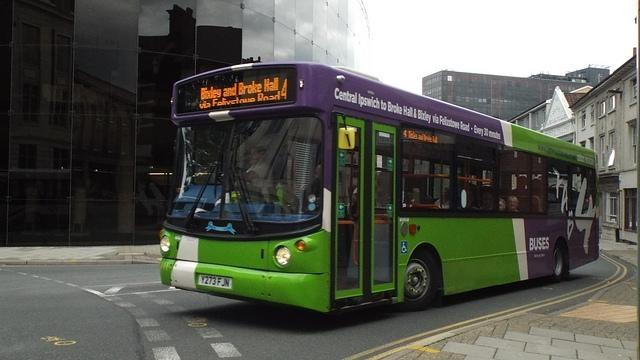bus: (156, 61, 600, 317)
